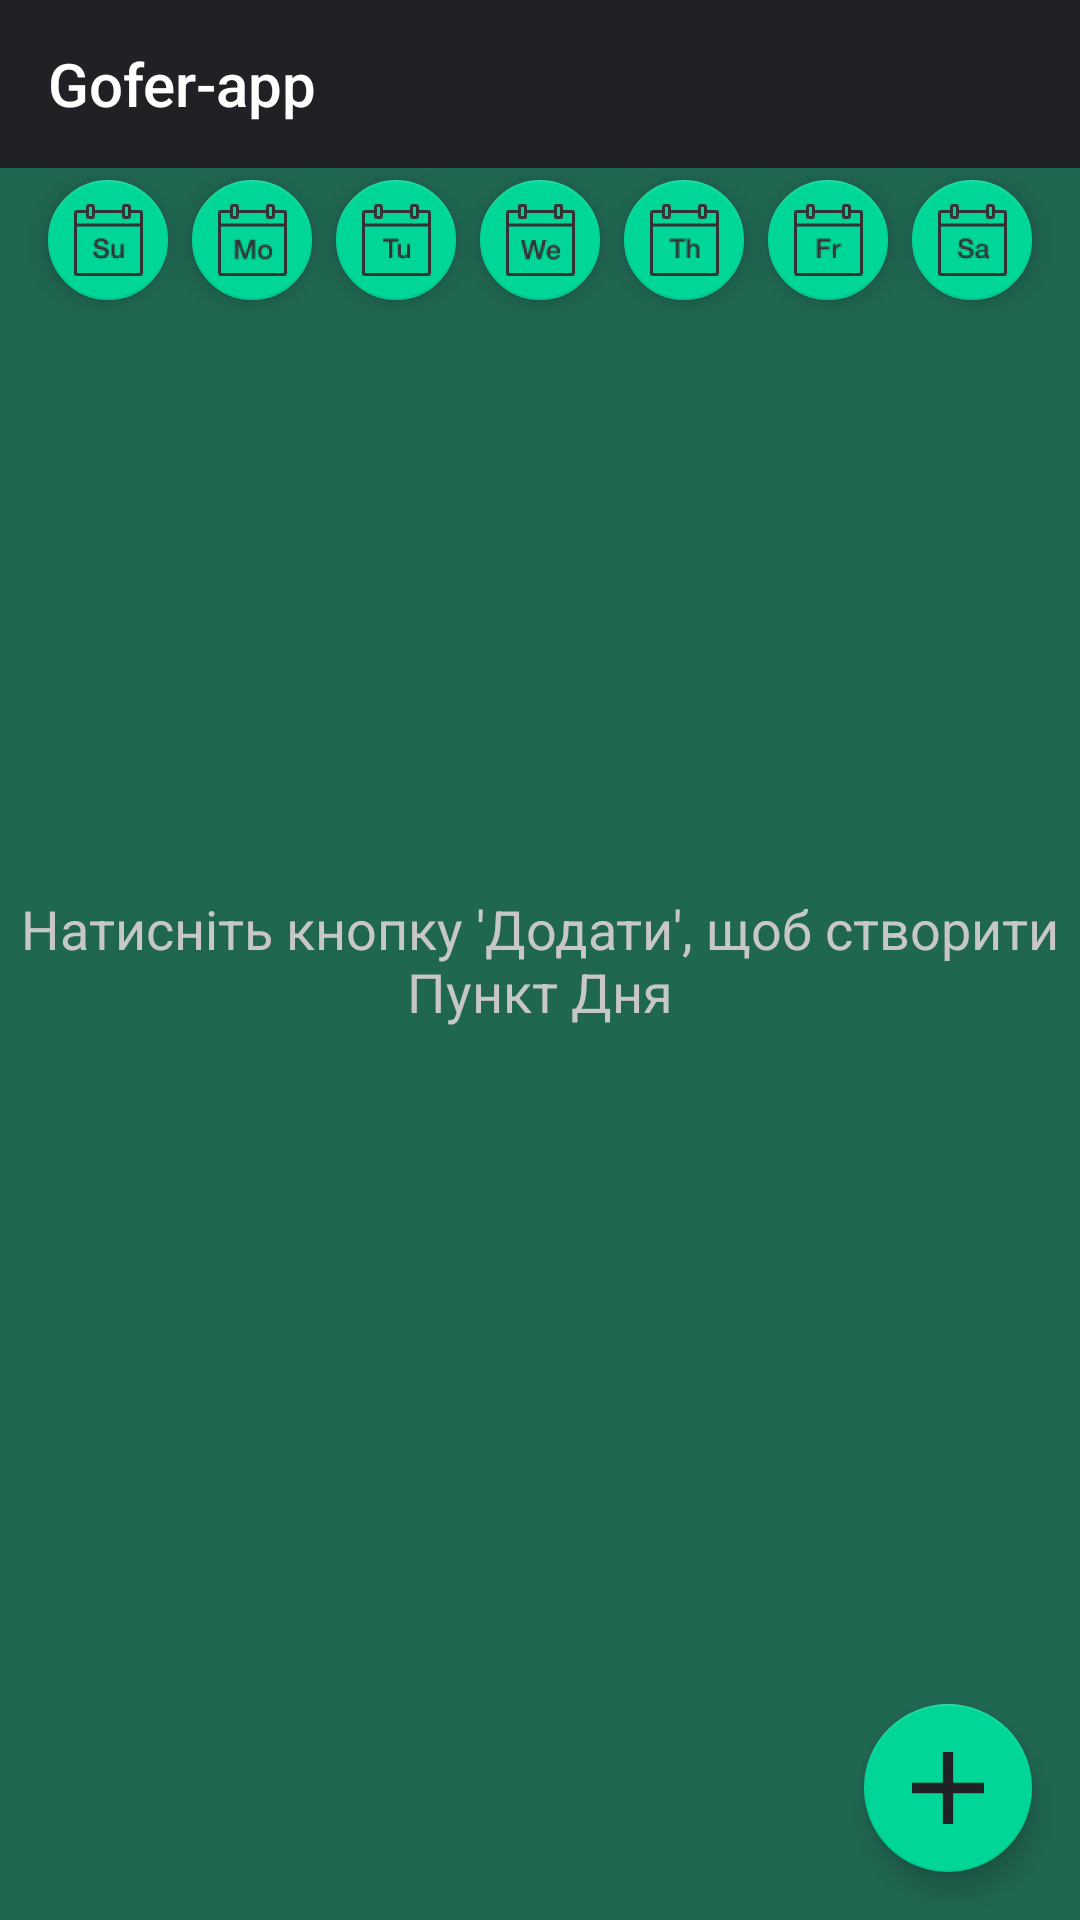

Point at icon controls on the screen. Image size 1080px x 1920px, points as (x=x, y=y).
add: (x=948, y=1788)
